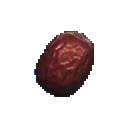gd: (26, 18, 101, 110)
